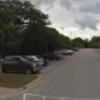cars: (2, 56, 44, 74)
